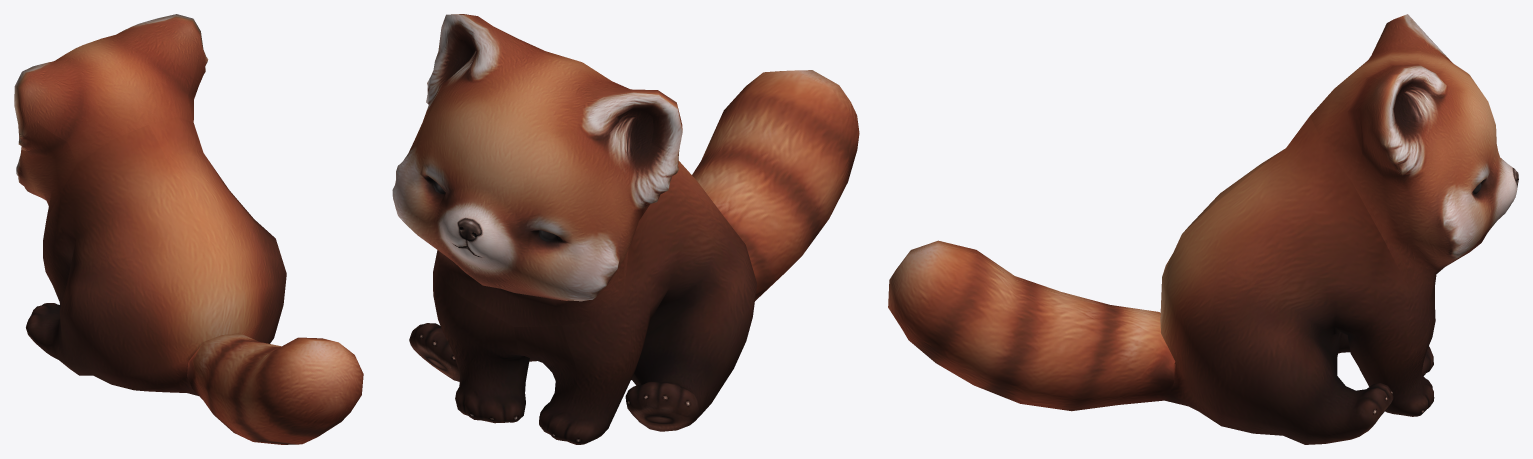
File: redFox1.gltf
3 views of the same model, side by side, from view 1: azimuth 30°, elevation 25°; view 2: azimuth 150°, elevation 25°; view 3: azimuth 270°, elevation 25° (orthographic). The views are drawn at different scales.
Parts seen in each view (by area): view 1: redFox1; view 2: redFox1; view 3: redFox1.
Part boxes in pixels (bbox=[...]): redFox1: bbox=[14, 14, 363, 444]; redFox1: bbox=[392, 14, 859, 444]; redFox1: bbox=[888, 14, 1518, 444].
Bounding box in the file's own units: 1.1 × 1.49 × 2.36.
Materials: 1 (1 with a texture image).
